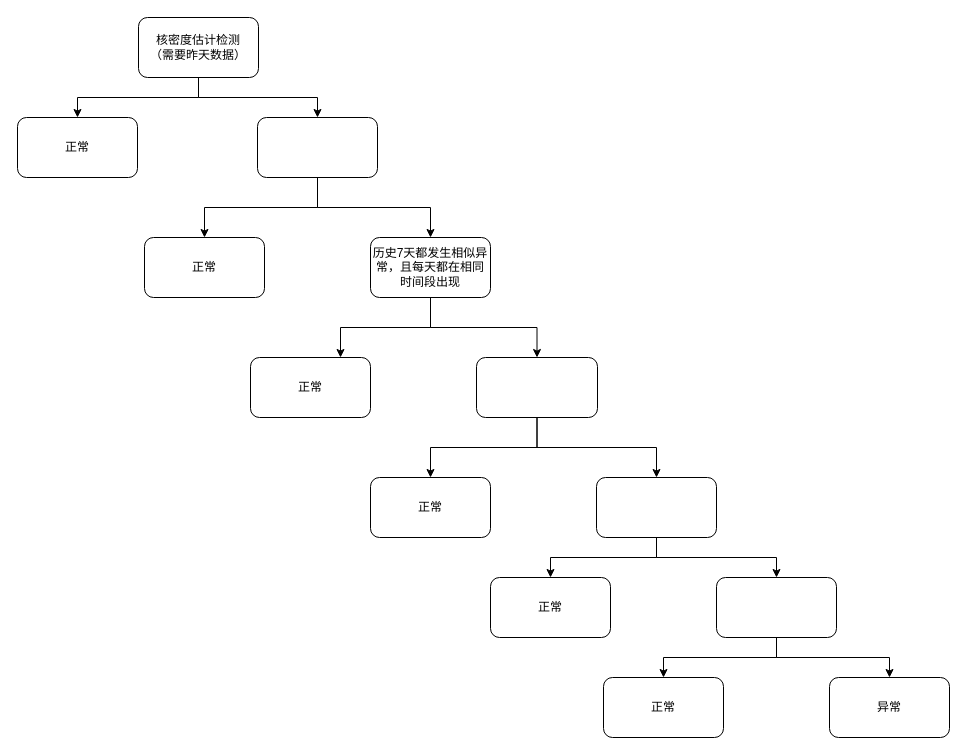
This 967x755 diagram has some shape labels left out. The centre of each missing label's shape, as x and y in pixels:
历史7天都发生相似异常，且当前异常与历史异常程度相似: the point at 776,607
同比7天前有异常: the point at 537,387
同比昨天有异常: the point at 656,507
核密度估计检测 （需要一周数据）: the point at 317,147
